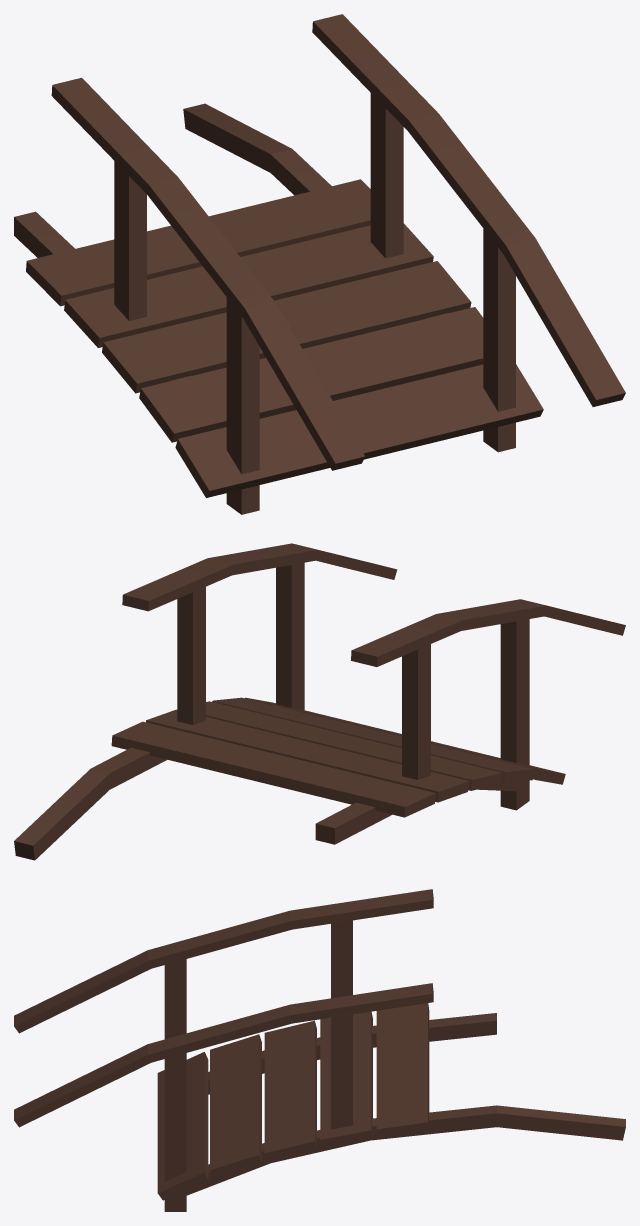
The model's file is 3. Half Bridge.fbx.
3 renders of one model, top to bottom at view 1: azimuth 30°, elevation 25°; view 2: azimuth 150°, elevation 25°; view 3: azimuth 270°, elevation 25°, orthographic. The views are drawn at different scales.
Visible parts, largest first — view 1: Half bridge - Steps, Half bridge - handrail, Half bridge - Structure - Pillar, Half bridge - Structure - beams; view 2: Half bridge - Steps, Half bridge - Structure - Pillar, Half bridge - handrail, Half bridge - Structure - beams; view 3: Half bridge - Steps, Half bridge - handrail, Half bridge - Structure - Pillar, Half bridge - Structure - beams.
Part boxes in pixels (bbox=[...]): Half bridge - Steps: bbox=[26, 179, 543, 497]; Half bridge - handrail: bbox=[51, 14, 625, 470]; Half bridge - Structure - Pillar: bbox=[114, 93, 515, 514]; Half bridge - Structure - beams: bbox=[14, 103, 448, 381]; Half bridge - Steps: bbox=[111, 697, 565, 817]; Half bridge - Structure - Pillar: bbox=[177, 562, 529, 810]; Half bridge - handrail: bbox=[122, 543, 625, 666]; Half bridge - Structure - beams: bbox=[14, 747, 525, 860]; Half bridge - Steps: bbox=[157, 1003, 429, 1200]; Half bridge - handrail: bbox=[14, 889, 433, 1127]; Half bridge - Structure - Pillar: bbox=[164, 920, 352, 1211]; Half bridge - Structure - beams: bbox=[176, 1013, 625, 1198].
Size of the model in its own units: 295 by 252 by 633.
